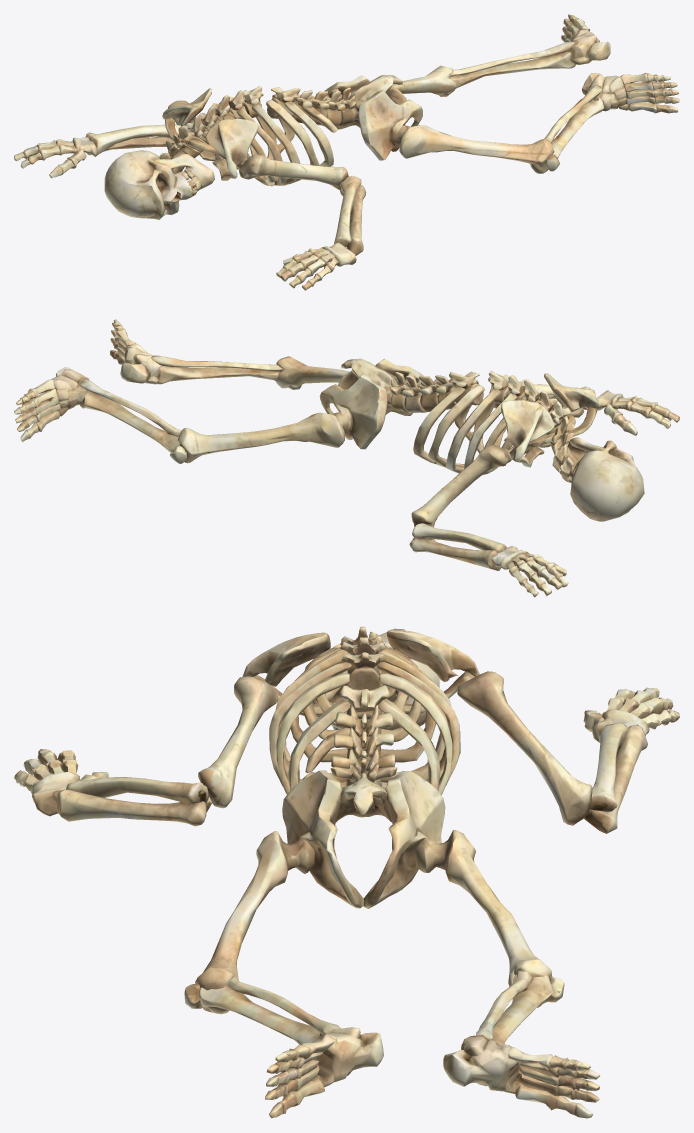
3 views of the same model, one above another, from view 1: azimuth 30°, elevation 25°; view 2: azimuth 150°, elevation 25°; view 3: azimuth 270°, elevation 25° (orthographic). The views are drawn at different scales.
Parts seen in each view (by area): view 1: SM_Skeleton_01_v1_LOD0; view 2: SM_Skeleton_01_v1_LOD0; view 3: SM_Skeleton_01_v1_LOD0.
Boxes of the visible parts, x1,y1,x2,y2 form: SM_Skeleton_01_v1_LOD0: (14, 14, 679, 290); SM_Skeleton_01_v1_LOD0: (14, 319, 679, 597); SM_Skeleton_01_v1_LOD0: (14, 626, 679, 1118).
Size of the model in its own units: 1.8 by 0.3603 by 1.18.
1 material, 1 textured.
